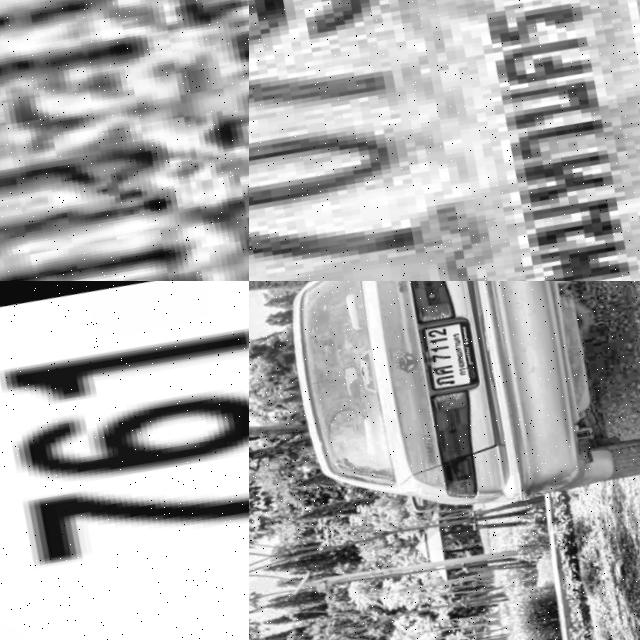license-plate: (249, 0, 640, 281), (0, 281, 249, 640), (0, 0, 249, 281), (417, 311, 487, 389)
